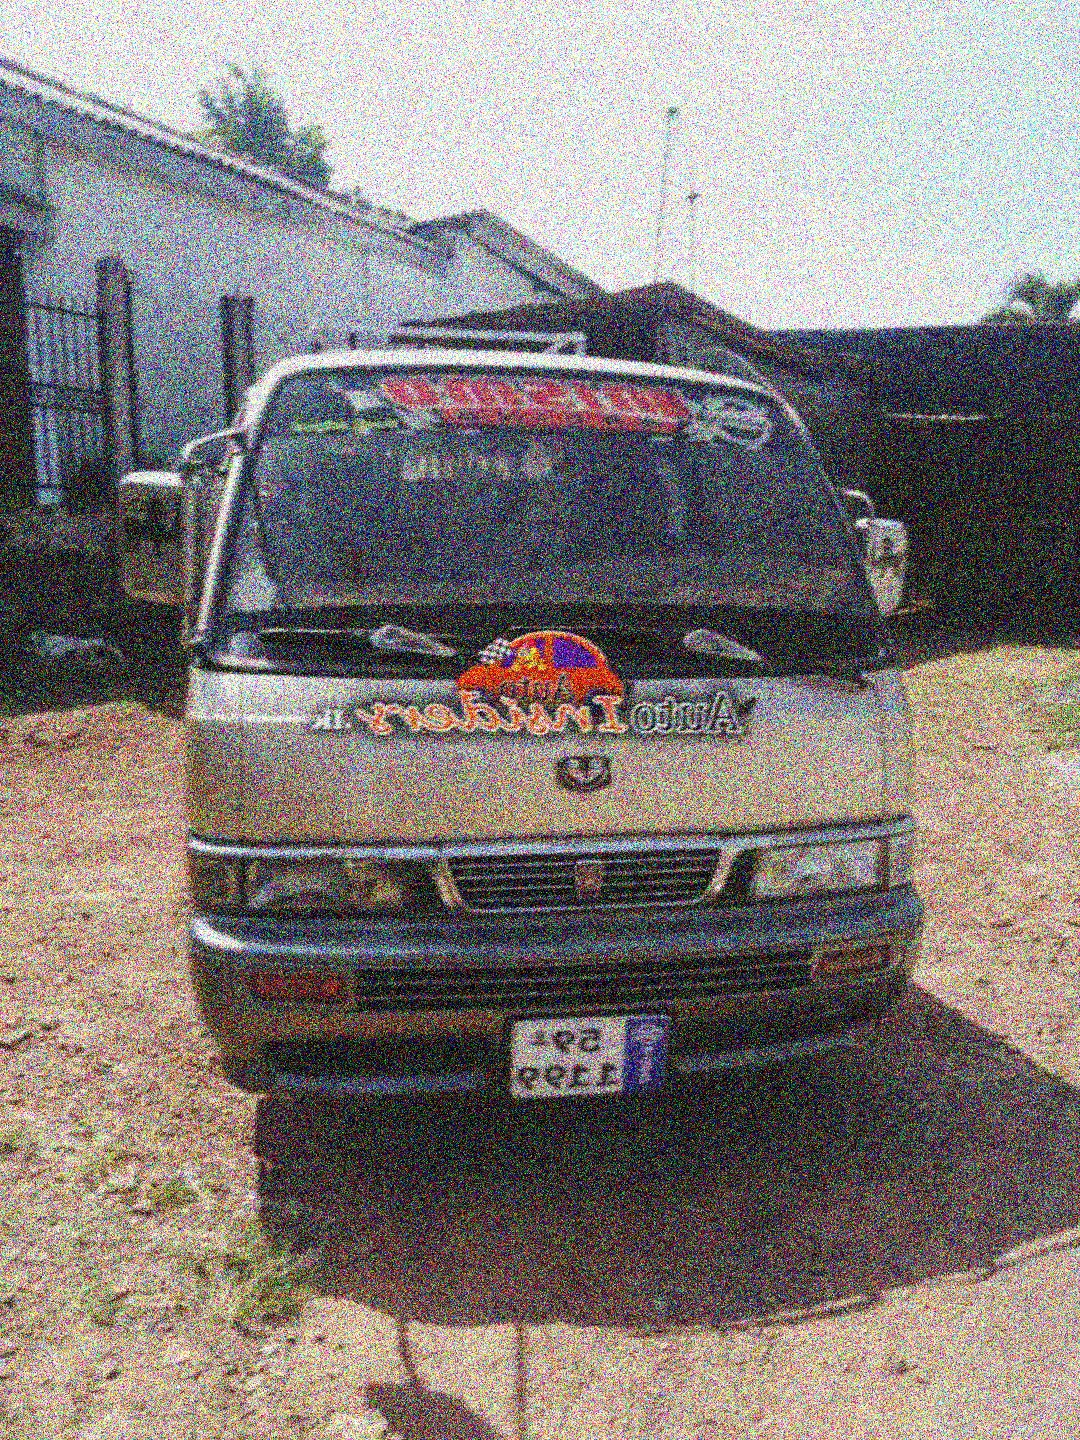van: (160, 327, 935, 1133)
